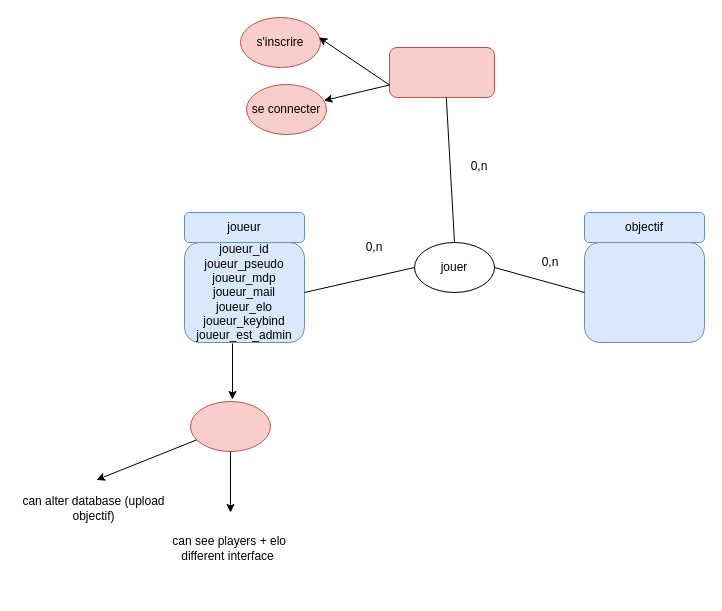
This 722x611 diagram has some shape labels left out. Here are the shapes that lost their labels. From the top down, the centre of each, then its label:
At [441,72]: "visiteur".
At [644,292]: "objectif_id objectif_timing_smite objectif_degat_smite objectif_duree".
At [230,426]: "if admin".
